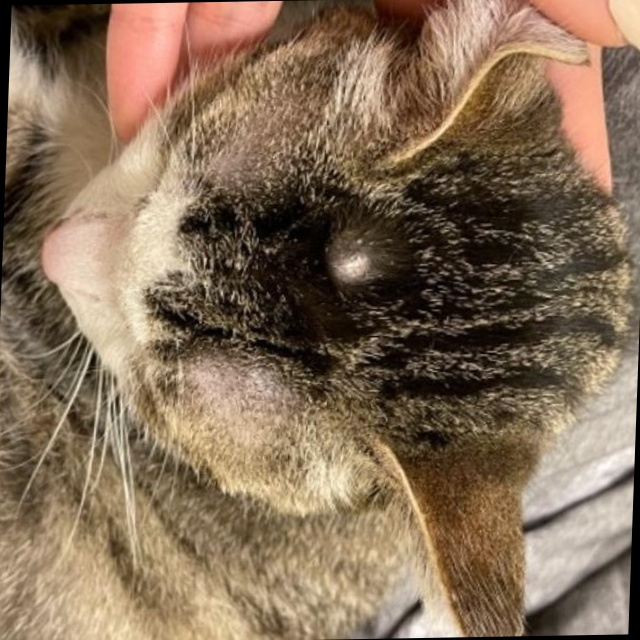lump_and_bump: (324, 241, 374, 293)
